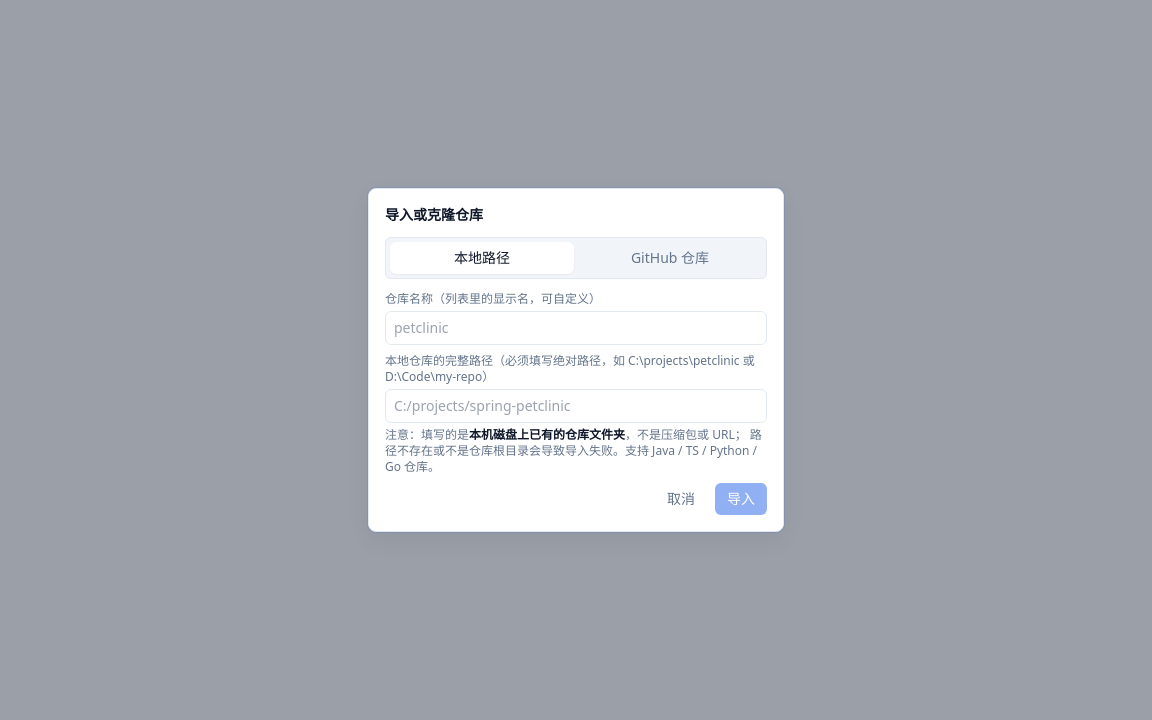
Test: ImportRepoModal — repository ingestion hub (Issue 19) › switches between the local and GitHub tabs
Expected: the field with test id "import-name" is shown, [385, 311, 767, 345]
Click the tab with test id "import-tab-remote" at (670, 258), box [578, 242, 762, 274]
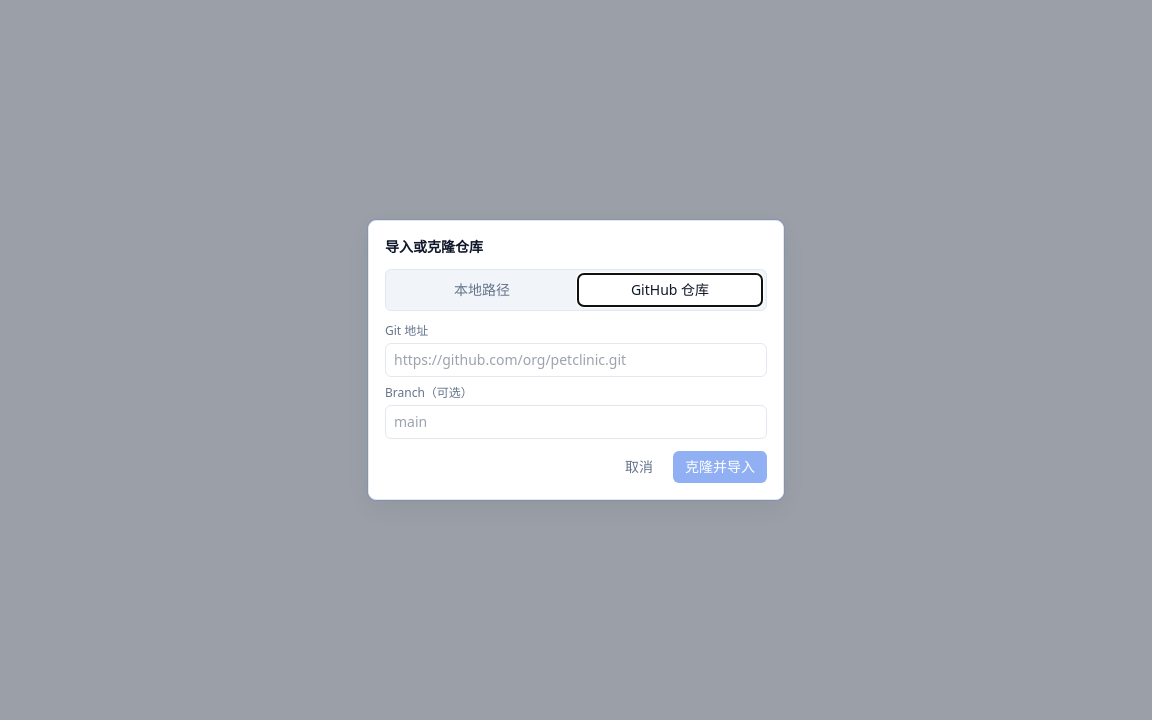
Result: the field with test id "import-url" is shown at [385, 343, 767, 377]
Click the tab with test id "import-tab-local" at (482, 290), box [390, 274, 574, 306]
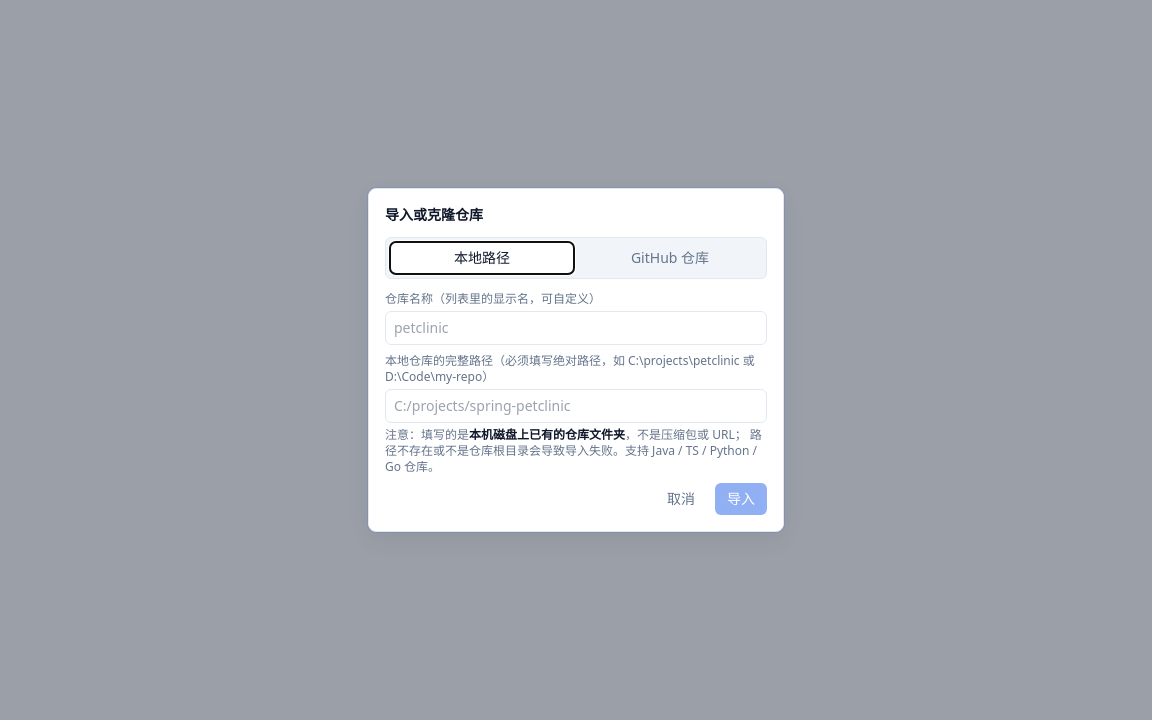
Result: the field with test id "import-name" is shown at [385, 311, 767, 345]
